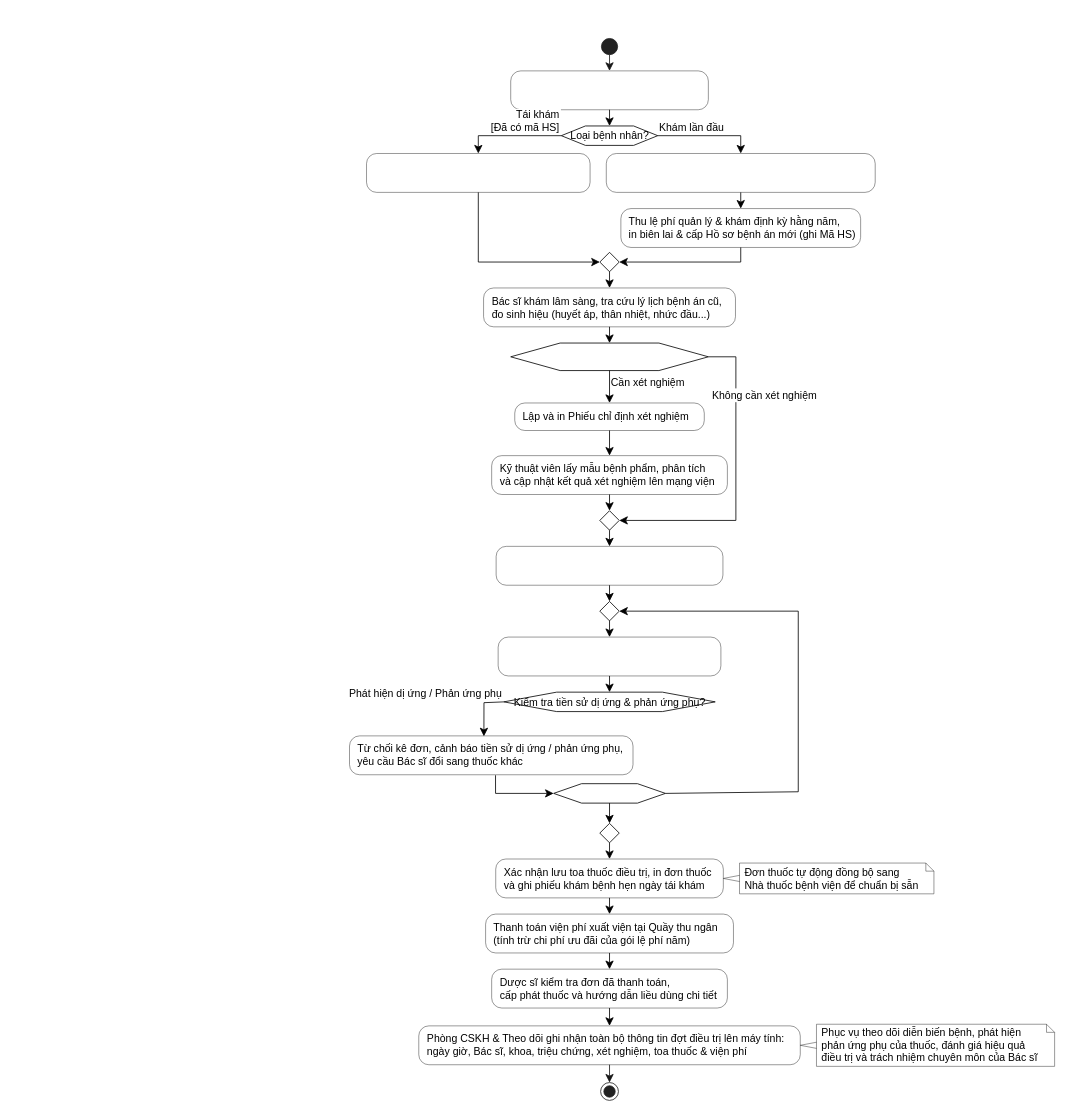
Some shapes in this 1068 by 1115 pixel diagram are drawn without their labels. The box of each missing label's shape, as (x1, y1, x2, y2) in pixels:
Bác sĩ chọn thuốc, nhập liều dùng, số lượng và gửi yêu cầu kiểm tra đơn thuốc: (498, 636, 721, 676)
Cần làm xét nghiệm cận lâm sàng?: (510, 342, 708, 371)
Thực hiện đổi thuốc: (553, 783, 665, 803)
Tiếp nhận bệnh nhân tại quầy đăng ký và kiểm tra thông tin: (510, 70, 708, 110)
Tra cứu lý lịch hồ sơ bệnh án trên máy tính (theo Mã hồ sơ, SĐT hoặc Họ tên): (366, 153, 590, 192)
Điền phiếu đăng ký khám (Họ tên, ĐC, ngày sinh, SĐT) và nộp 01 ảnh chân dung 3x4: (606, 153, 875, 192)
Đối chiếu kết quả xét nghiệm với triệu chứng và đưa ra Chẩn đoán xác định bệnh: (496, 546, 723, 585)
